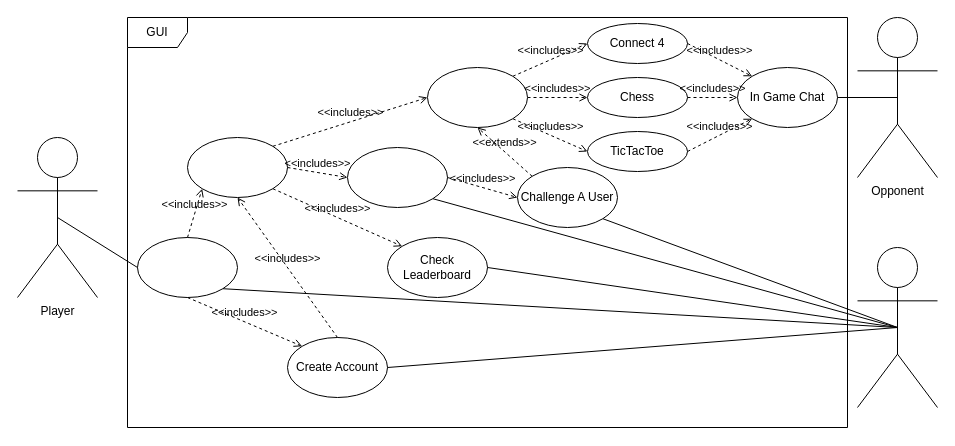
This 955x446 diagram has some shape labels left out. Here are the shapes that lost their labels. From the top down, the box of each, then its label:
(426, 66, 528, 128): Match Making
(186, 136, 288, 198): Game Select
(346, 146, 448, 208): Profile
(136, 236, 238, 298): Login
(856, 246, 938, 408): Database
